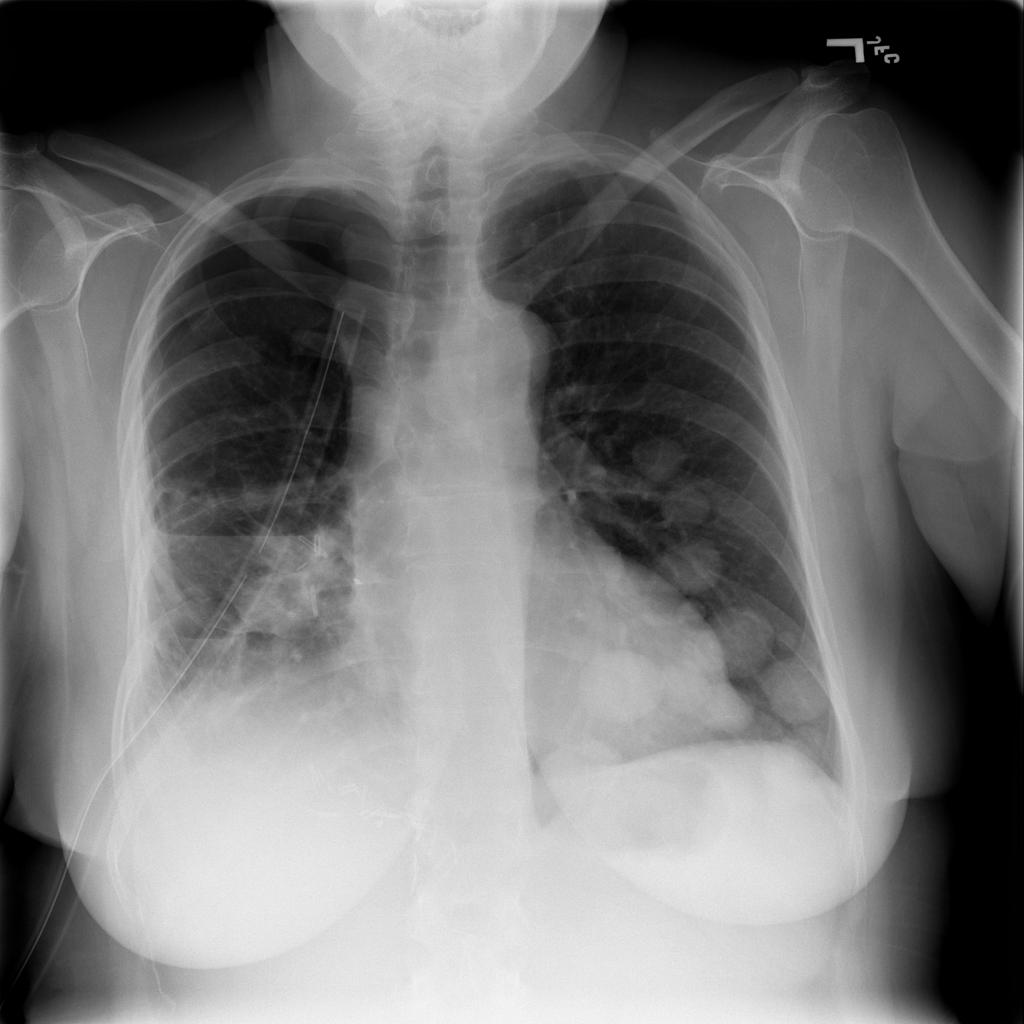nodule: (570, 633, 678, 734), (690, 598, 774, 675), (544, 728, 632, 797), (651, 530, 732, 602), (764, 651, 838, 728), (689, 762, 769, 830), (629, 427, 699, 503), (684, 676, 764, 742), (650, 471, 727, 535), (762, 726, 838, 790)
